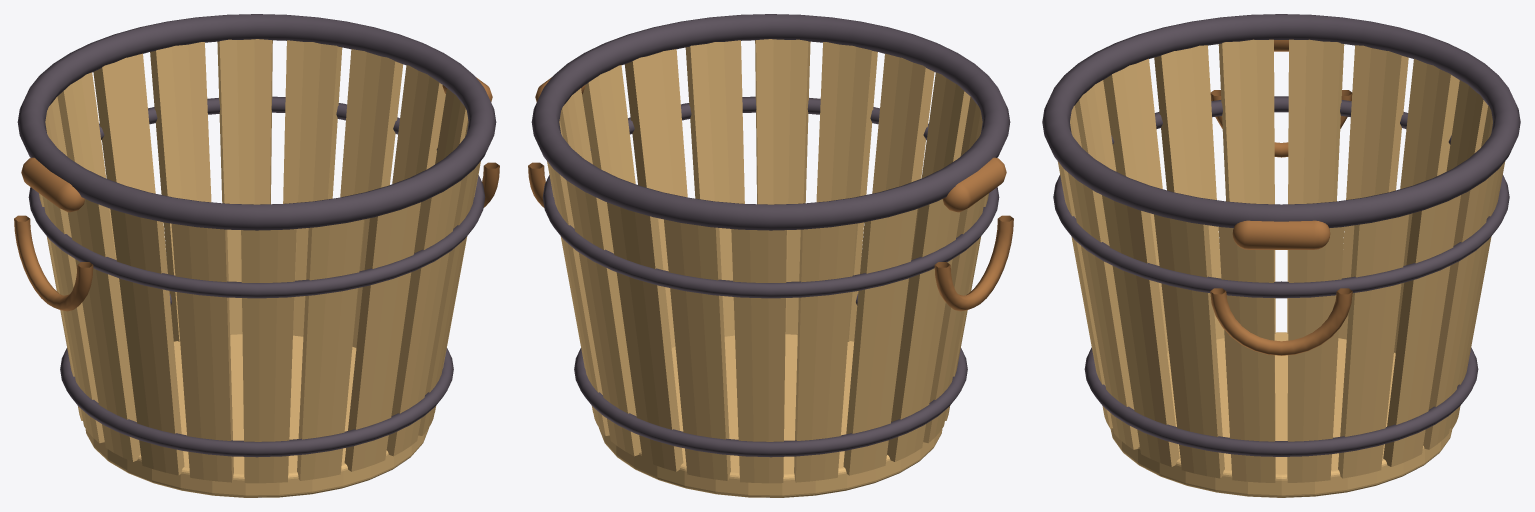
File: BushelBasket.obj
3 renders of one model, left to right at view 1: azimuth 30°, elevation 25°; view 2: azimuth 150°, elevation 25°; view 3: azimuth 270°, elevation 25°, orthographic.
Visible parts, largest first — view 1: BushelWood, BushelBands, BushelHandles; view 2: BushelWood, BushelBands, BushelHandles; view 3: BushelWood, BushelBands, BushelHandles.
Part boxes in pixels (bbox=[...]): BushelWood: bbox=[39, 39, 480, 497]; BushelBands: bbox=[17, 14, 496, 457]; BushelHandles: bbox=[14, 77, 499, 311]; BushelWood: bbox=[547, 39, 988, 497]; BushelBands: bbox=[531, 14, 1010, 457]; BushelHandles: bbox=[528, 77, 1013, 311]; BushelWood: bbox=[1057, 39, 1505, 497]; BushelBands: bbox=[1042, 14, 1520, 456]; BushelHandles: bbox=[1210, 40, 1352, 355].
Bounding box in the file's own units: 4.36 × 3.04 × 4.16.
